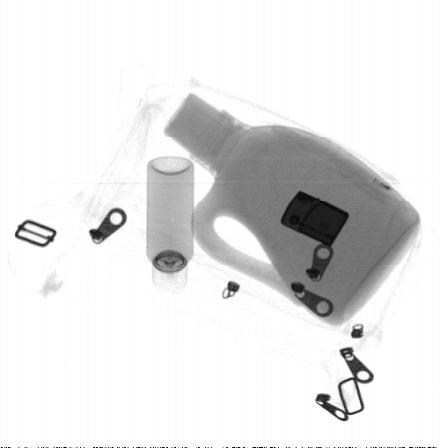Lighter: (281, 190, 351, 247)
Sprayer: (146, 157, 194, 295)
